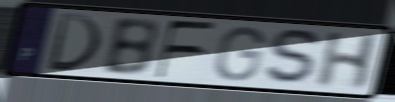B: (99, 17, 160, 78)
D: (43, 11, 104, 74)
F: (154, 19, 219, 81)
G: (212, 25, 267, 83)
H: (312, 31, 384, 92)
S: (261, 27, 326, 88)
